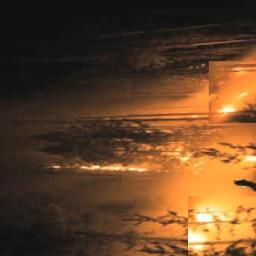Small fire: (208, 63, 256, 249), (39, 158, 205, 179)
